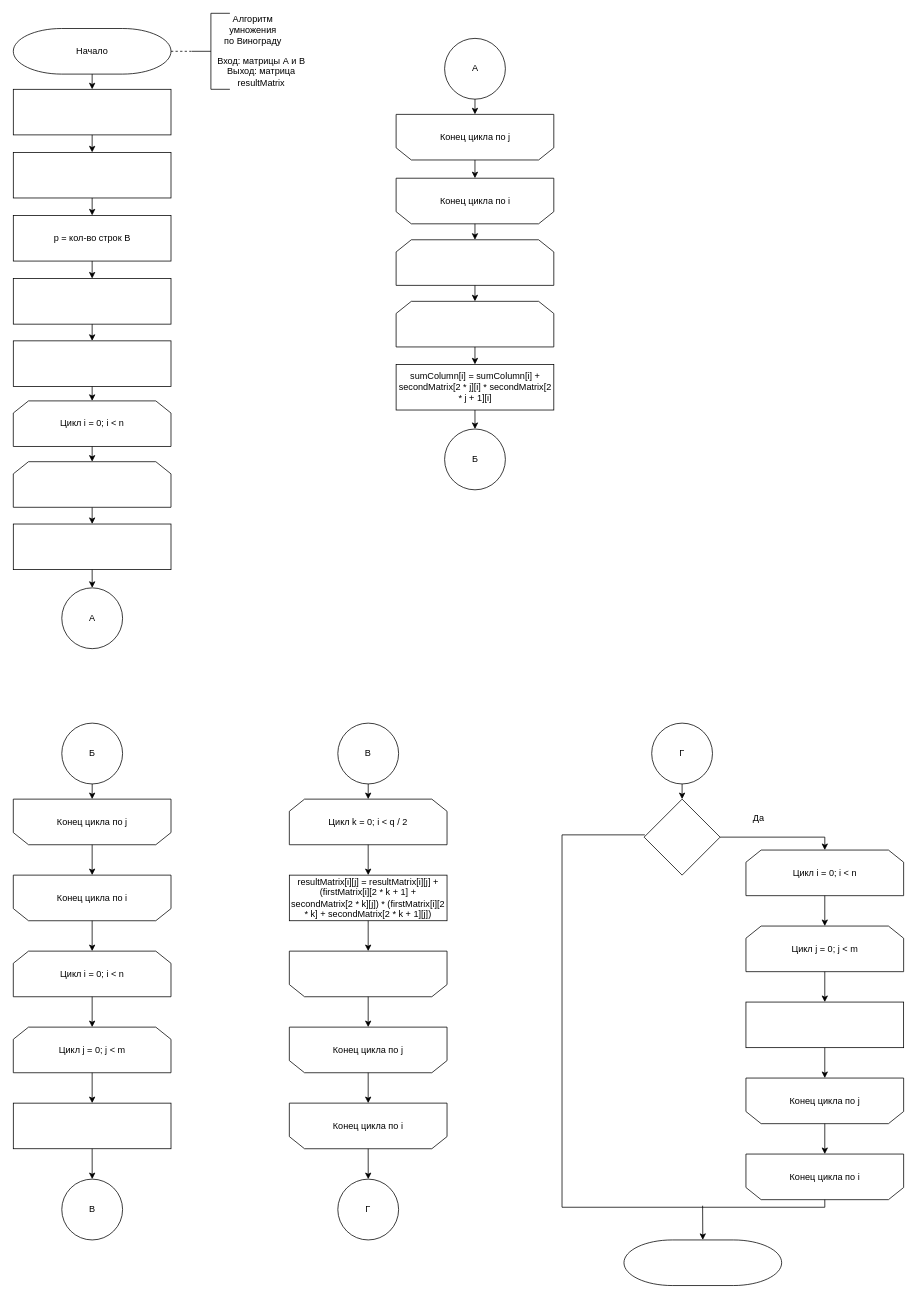
Some shapes in this 917 by 1299 pixel diagram are drawn without their labels. The centre of each missing label's shape, as x and y in pixels:
m = кол-во столбцов B: (x=92, y=175)
n = кол-во строк А: (x=92, y=112)
q % 2 == 1: (x=681, y=836)
q = кол-во столбцов А: (x=92, y=301)
resultMatrix[i][j] += firstMatrix[i][q - 1] * secondMatrix[q - 1][j]: (x=824, y=1024)
resultMatrix[i][j] = resultMatrix[i][j] - sumRow[i] - sumColumn[j]: (x=92, y=1125)
sumRow[i] = sumRow[i] + firstMatrix[i][2 * j] * firstMatrix[i][2 * j + 1]: (x=92, y=546)
Конец: (x=702, y=1262)
Конец цикла по k: (x=368, y=973)
Создание массивов sumRow длинной n и sumColumn длинной m: (x=92, y=363)
Цикл i = 0; i < m: (x=474, y=262)
Цикл j = 0; j < p / 2: (x=474, y=324)
Цикл j = 0; j < q / 2: (x=92, y=484)
